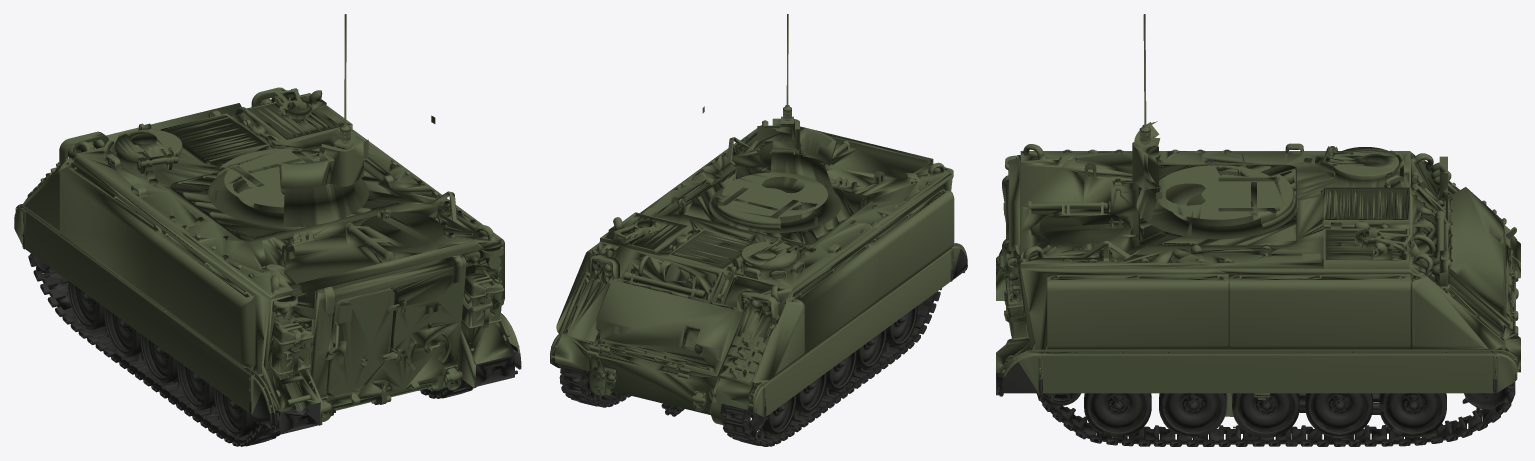
3 renders of one model, left to right at view 1: azimuth 30°, elevation 25°; view 2: azimuth 150°, elevation 25°; view 3: azimuth 270°, elevation 25°, orthographic. The views are drawn at different scales.
Visible parts, largest first — view 1: body|Scene_-_Root#camo, body|Scene_-_Root#track; view 2: body|Scene_-_Root#camo, body|Scene_-_Root#track; view 3: body|Scene_-_Root#camo, body|Scene_-_Root#track.
Part boxes in pixels (bbox=[...]): body|Scene_-_Root#camo: bbox=[14, 14, 520, 425]; body|Scene_-_Root#track: bbox=[14, 225, 521, 446]; body|Scene_-_Root#camo: bbox=[550, 14, 966, 424]; body|Scene_-_Root#track: bbox=[550, 249, 967, 446]; body|Scene_-_Root#camo: bbox=[996, 14, 1520, 393]; body|Scene_-_Root#track: bbox=[996, 251, 1516, 446].
Bounding box in the file's own units: 2.84 × 4.28 × 4.86.
